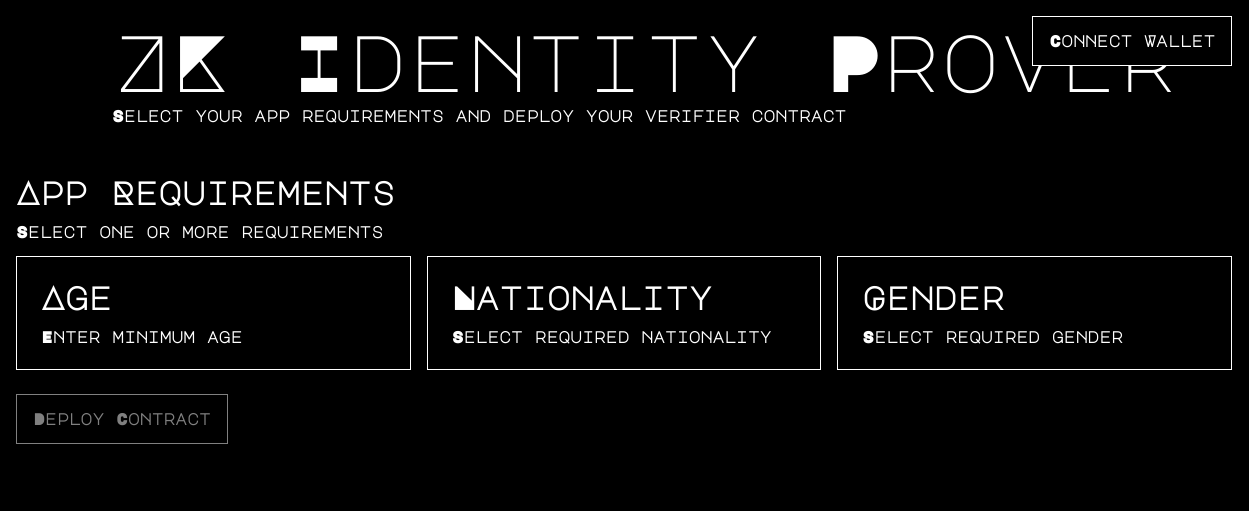
it: Deploy page › shows age input after clicking age card
Click the text "Age".
click(213, 313)  # box [16,256,411,370]
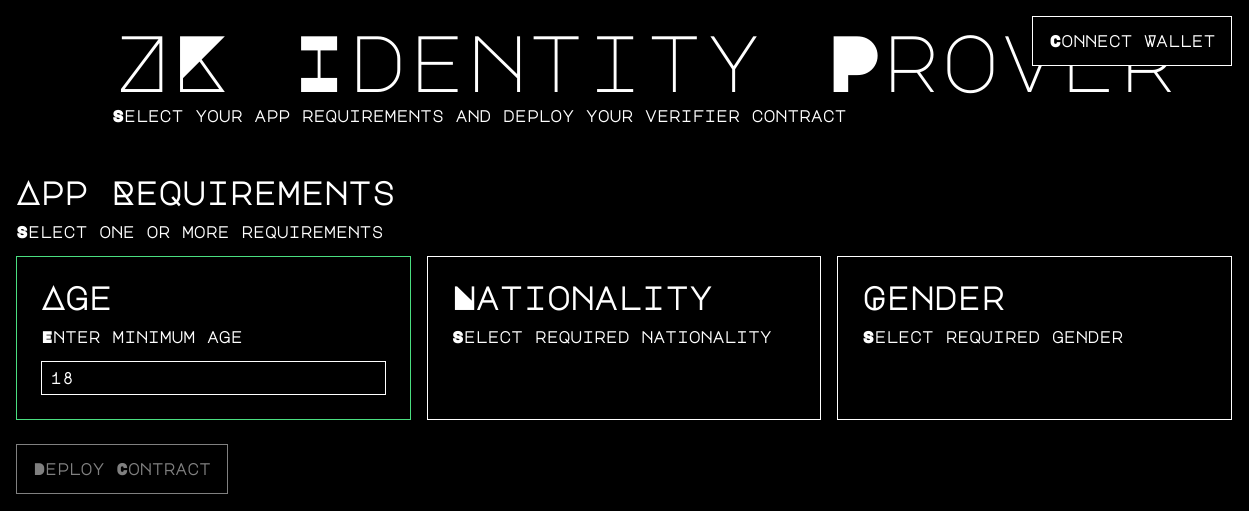
Expected: the number field showing "18" is shown, [41,361,386,395]
